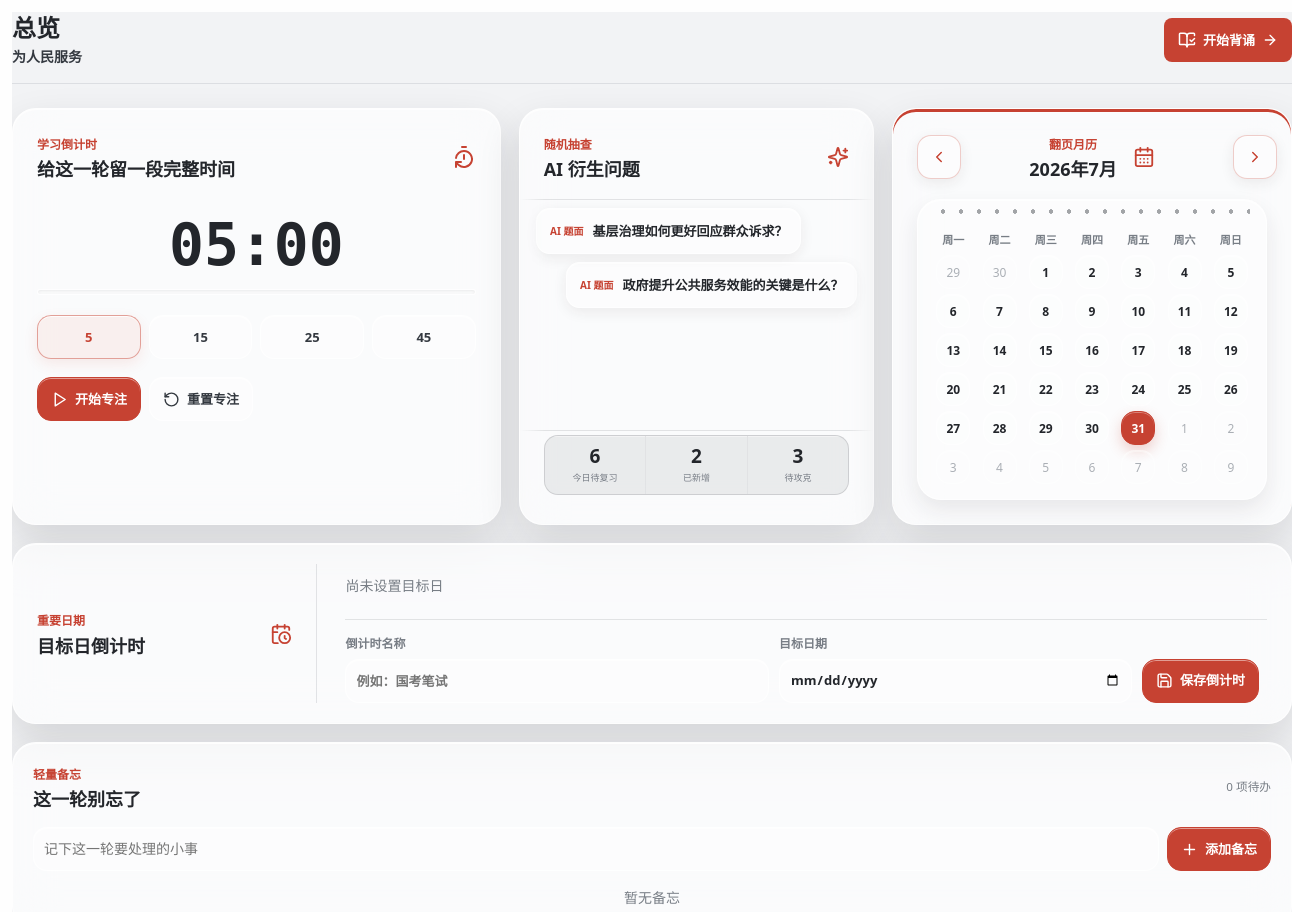
学习驾驶舱 › 支持开始、暂停、继续、完成反馈和重置
Expected: the text "05:00" is shown, [169,212,344,280]
Expected: the text "学习倒计时" is shown, [37,136,97,153]
Click the button "开始专注" at (89, 400), box [37,378,141,422]
Wait 1000 ms
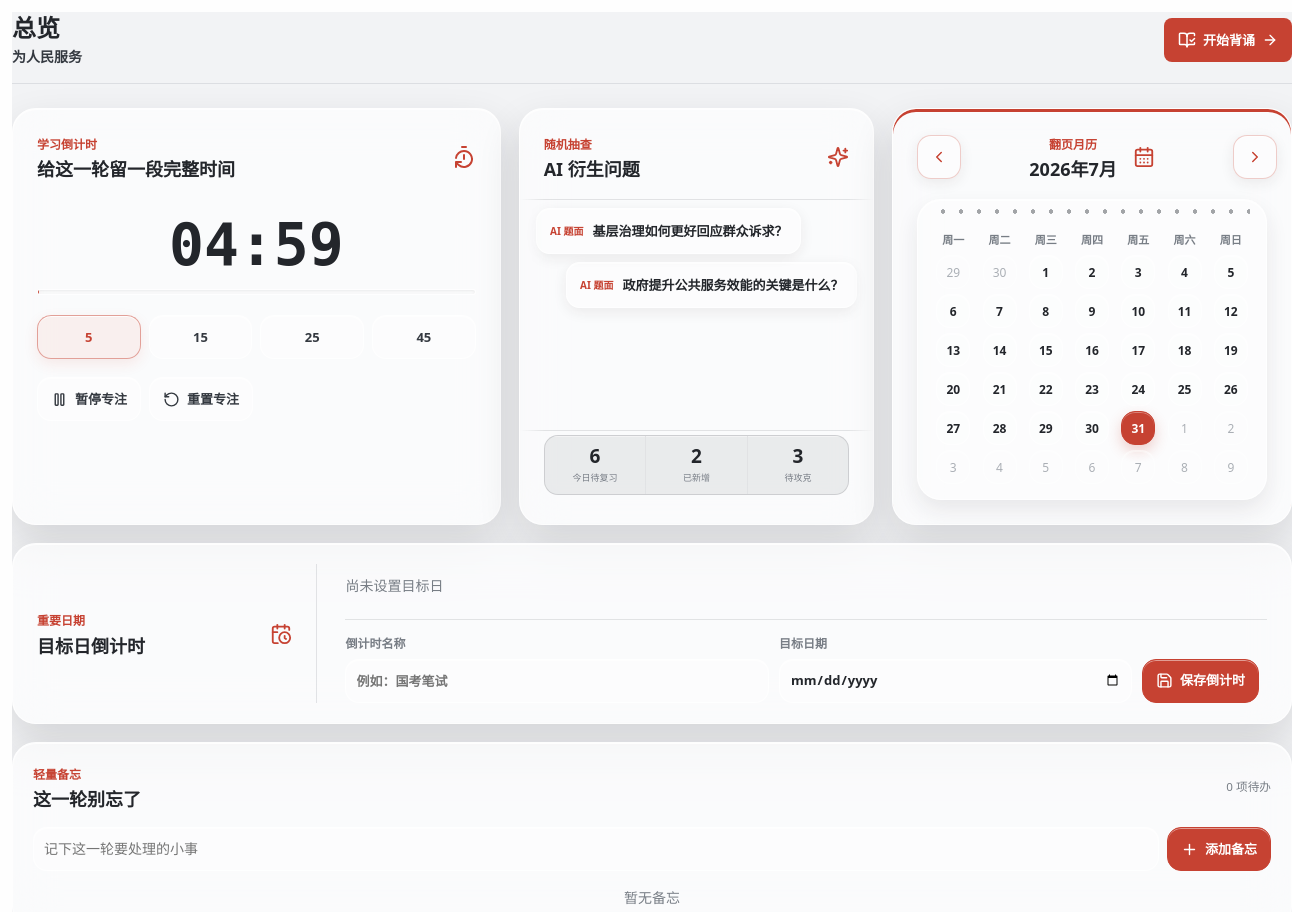
Result: the text "04:59" is shown at [169,212,344,280]
Click the button "暂停专注" at (89, 400), box [37,378,141,422]
Wait 2000 ms
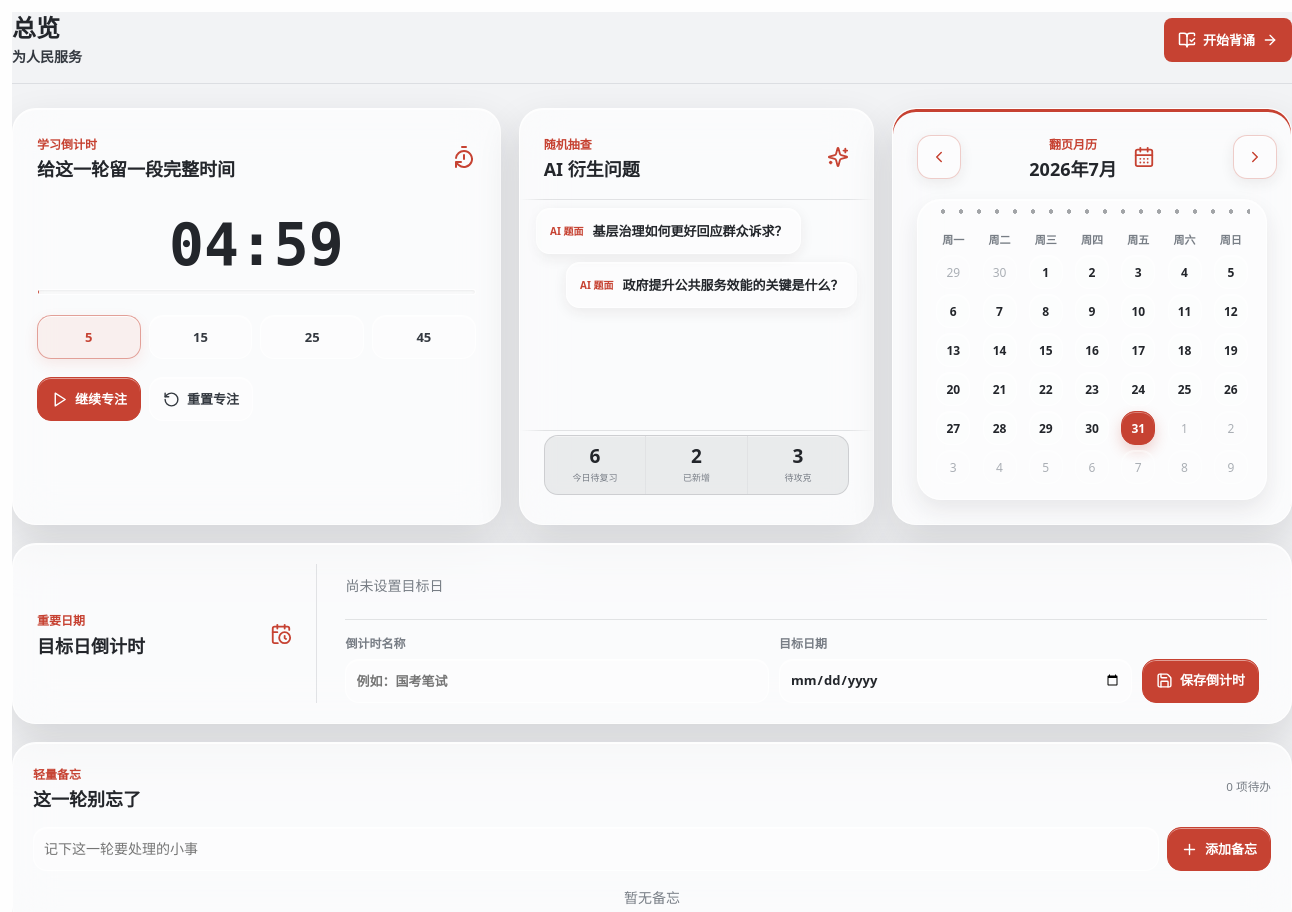
Result: the text "04:59" is shown at [169,212,344,280]
Click the button "继续专注" at (89, 400), box [37,378,141,422]
Wait 299000 ms
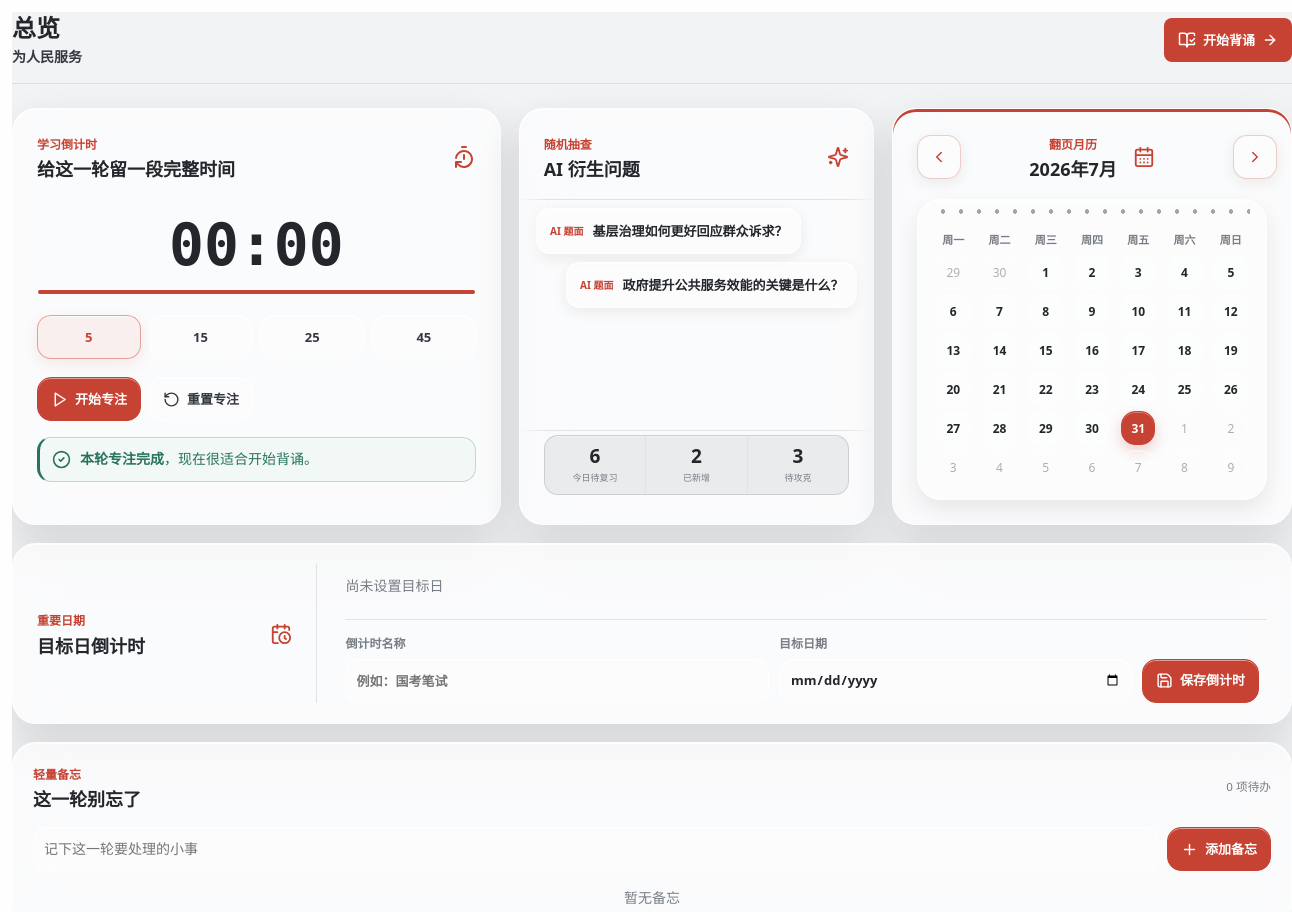
Result: the message shows "本轮专注完成" at [80,450,164,468]
Result: the text "00:00" is shown at [169,212,344,280]
Click the button "重置专注" at (201, 400), box [149,378,253,422]
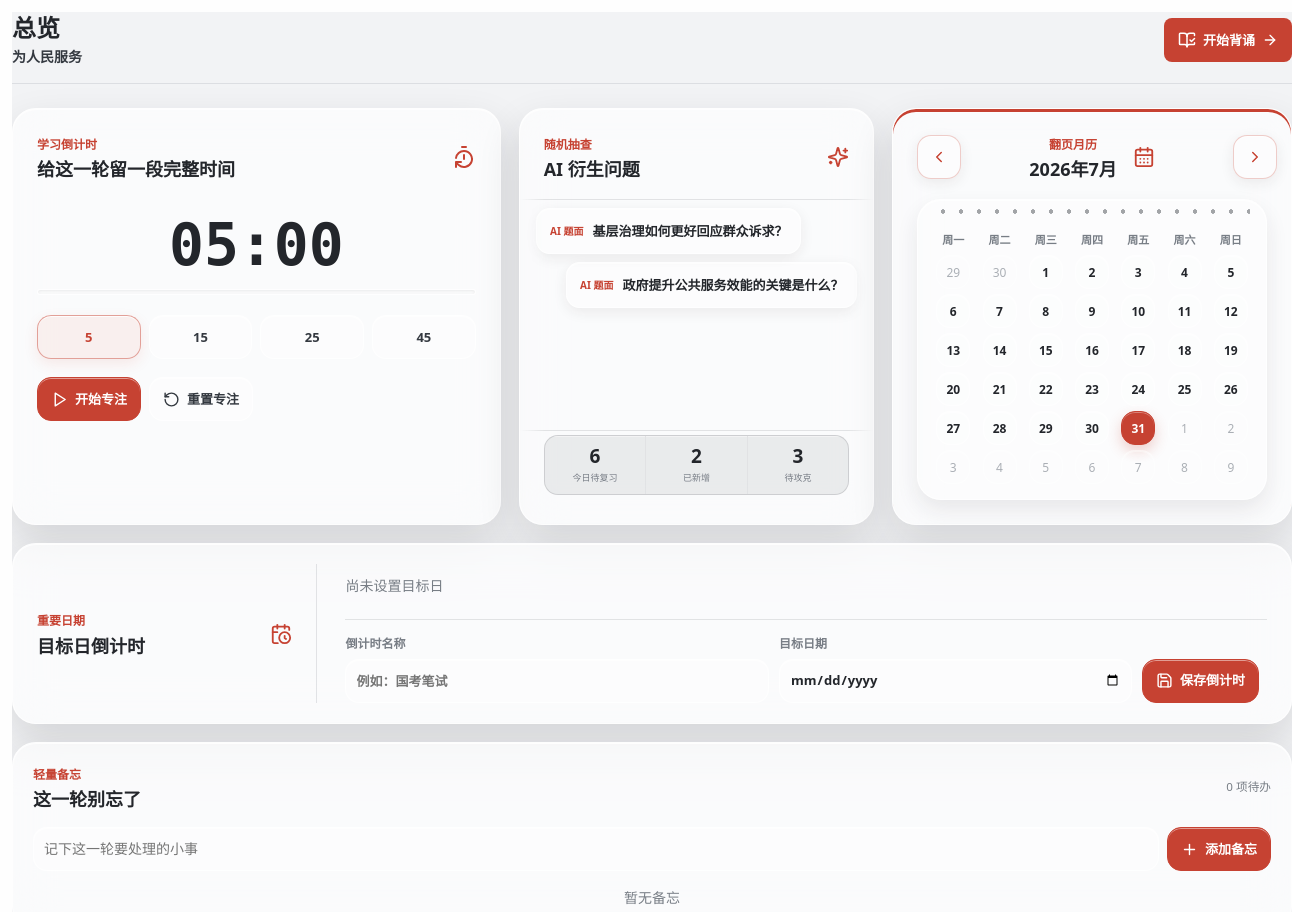
Result: the text "05:00" is shown at [169,212,344,280]
Result: the text "本轮专注完成" is gone
